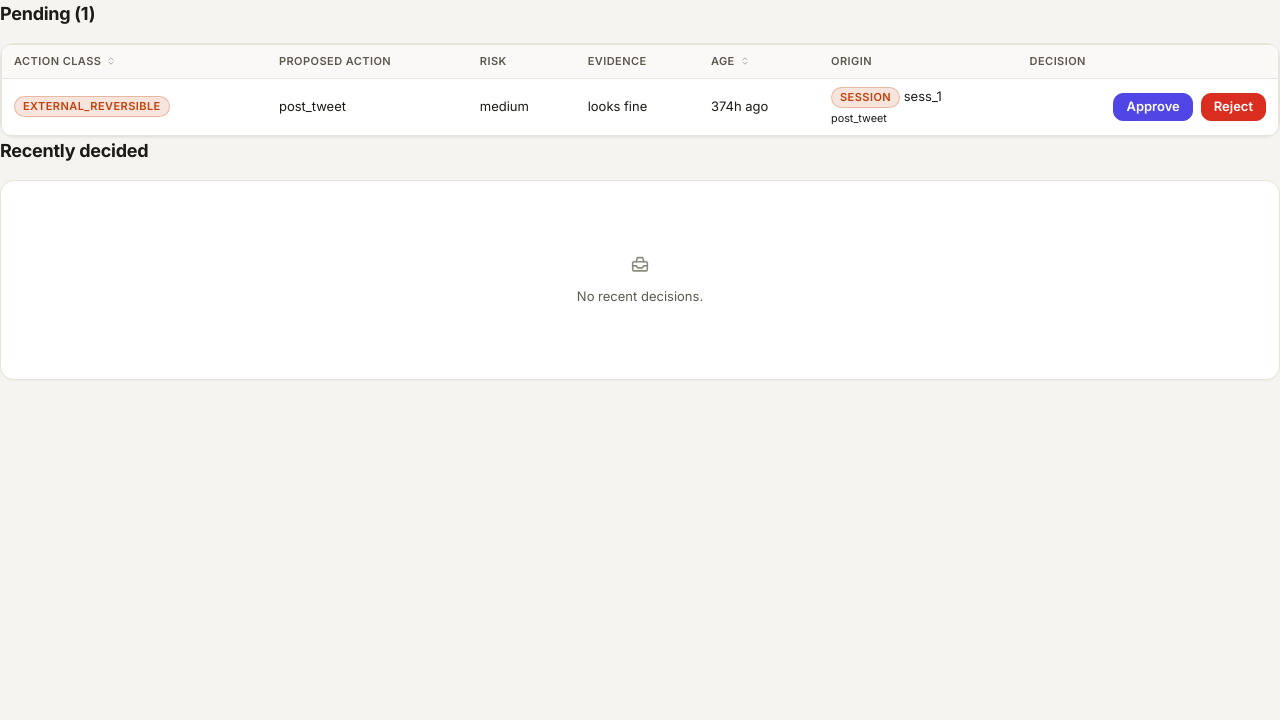
Test case: ApprovalsTab — decision failure is surfaced, not swallowed › falls back to a generic message when the rejection isn't an Error instance
Click the button "Reject".
click(1233, 107)  # box x1=1201 y1=93 x2=1266 y2=121
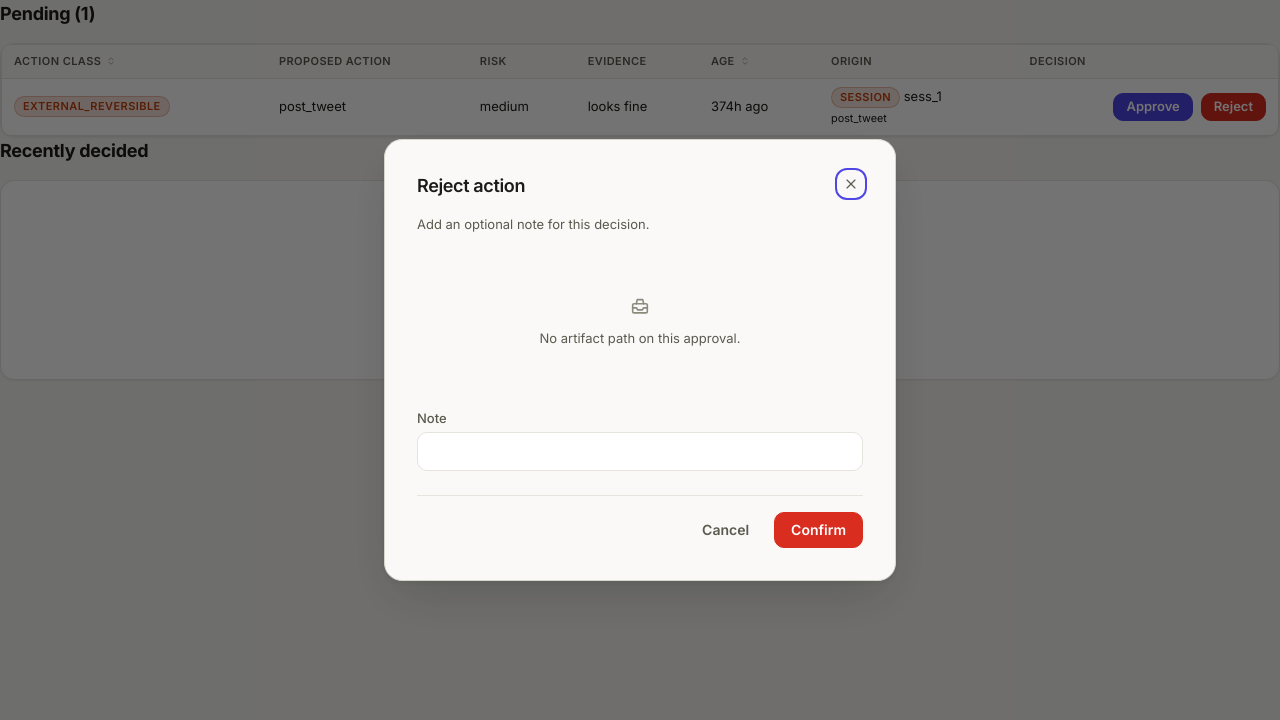
Click the button "Confirm".
click(819, 530)  # box x1=774 y1=512 x2=863 y2=548
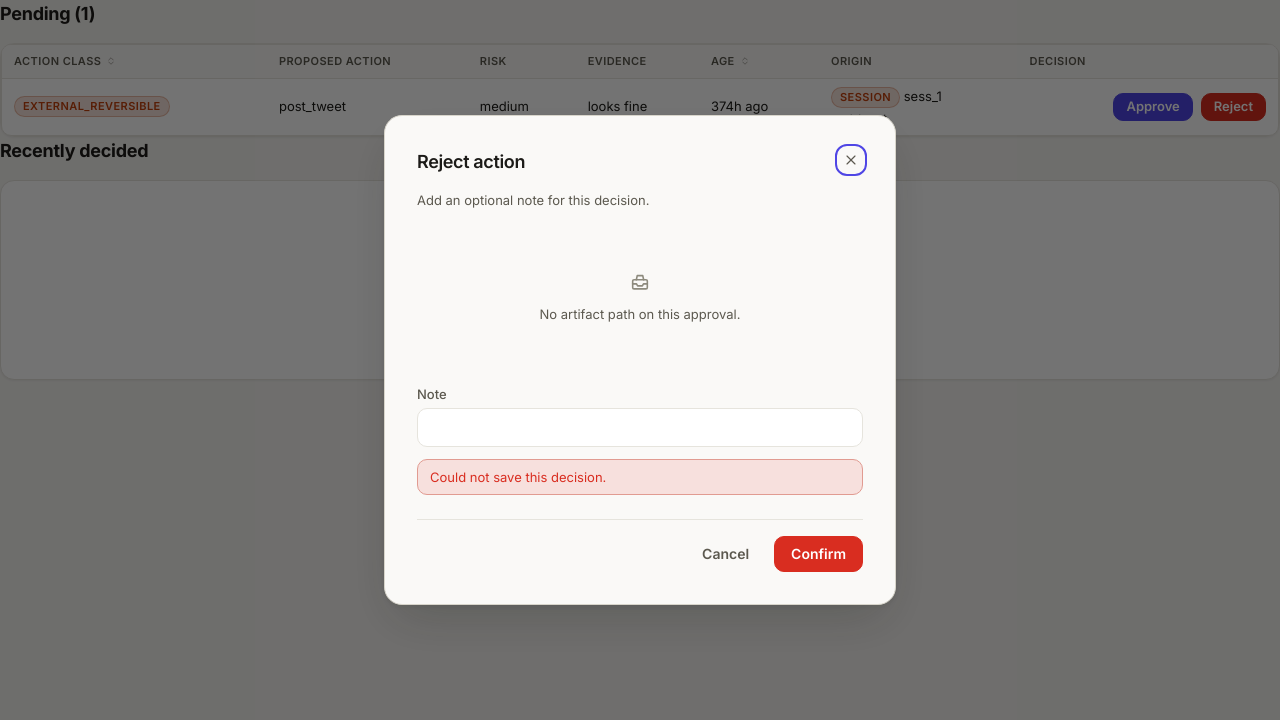
Result: the heading "Reject action" is shown at x1=417 y1=148 x2=525 y2=175
Result: the message "Could not save this decision." is shown at x1=417 y1=459 x2=863 y2=495
